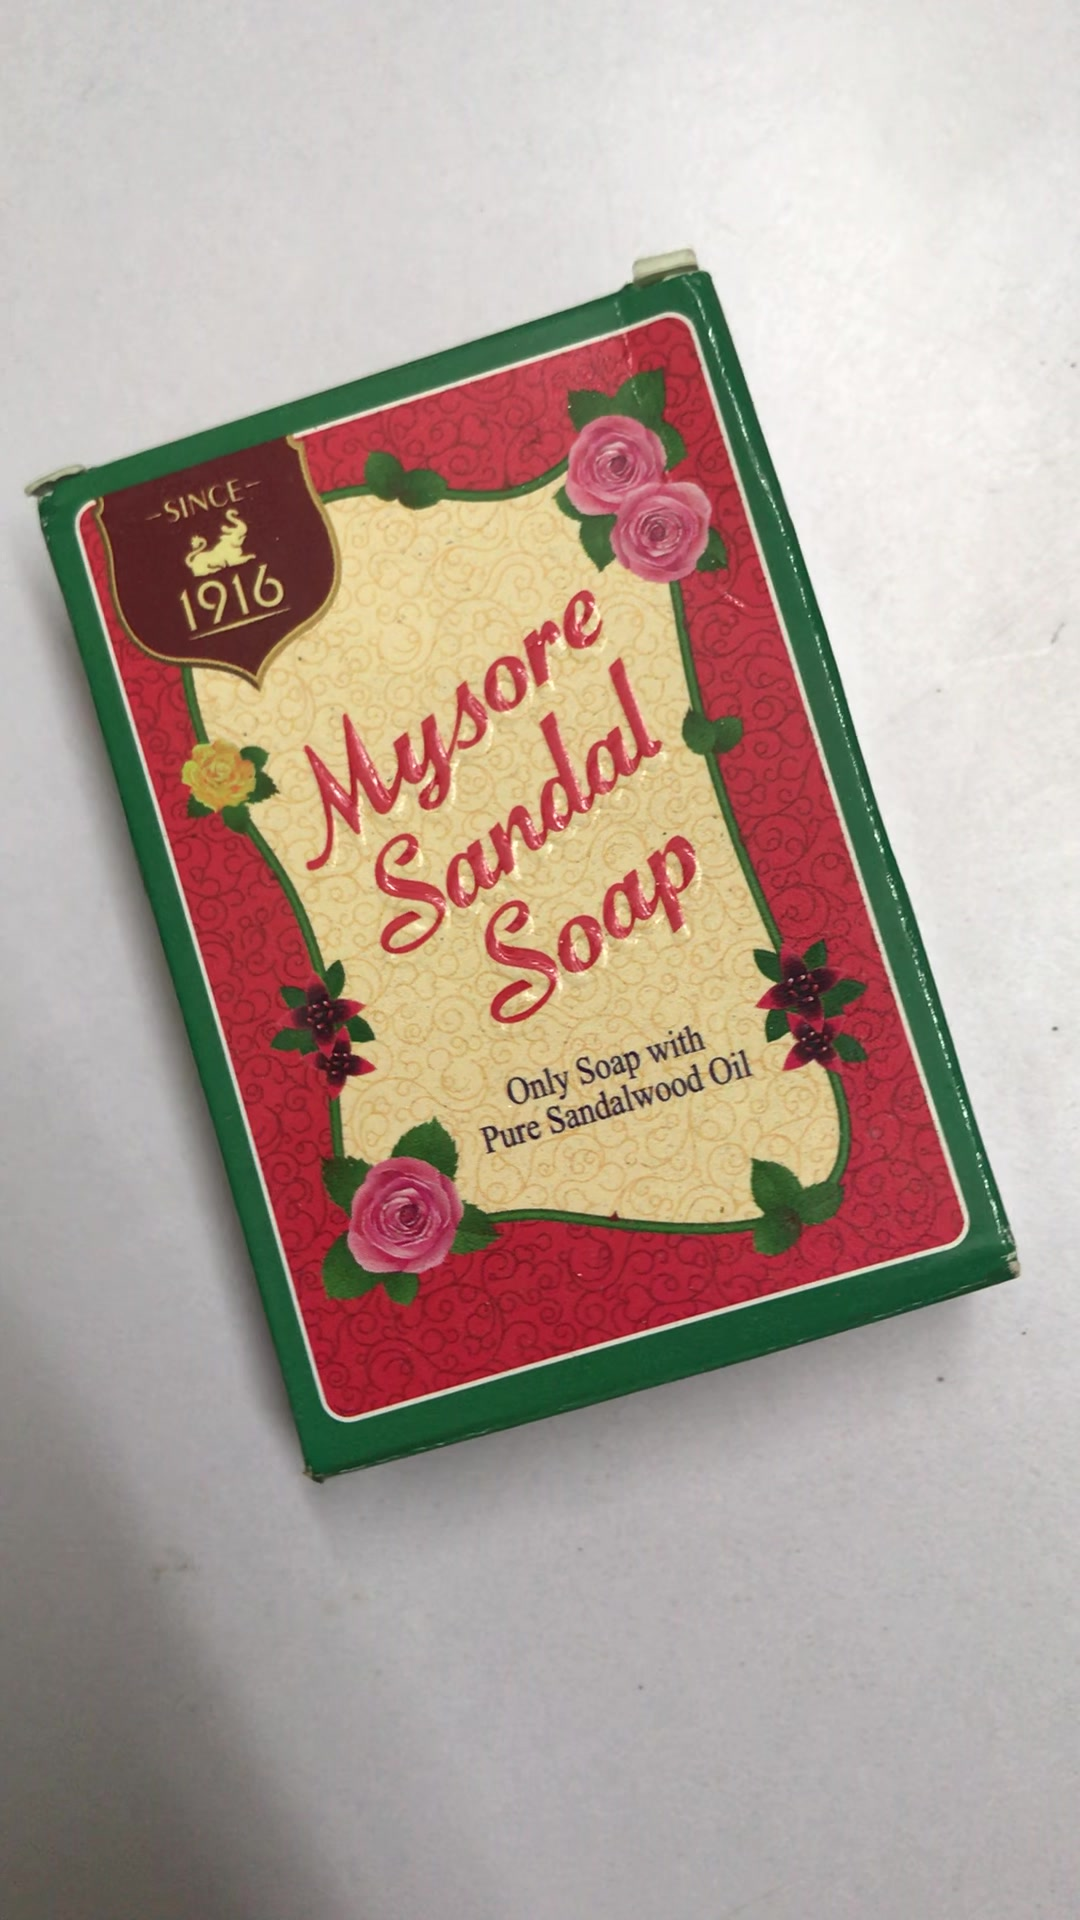mysore sandal soap: (38, 280, 1029, 1481)
